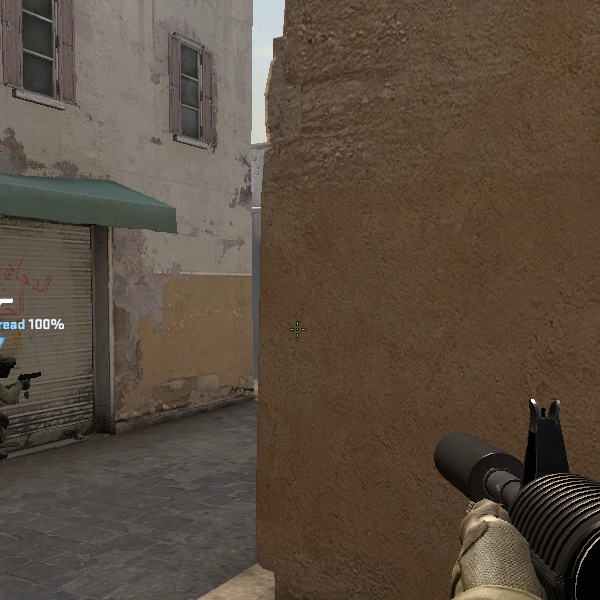ct_body: (1, 348, 34, 464)
ct_head: (1, 349, 15, 382)
